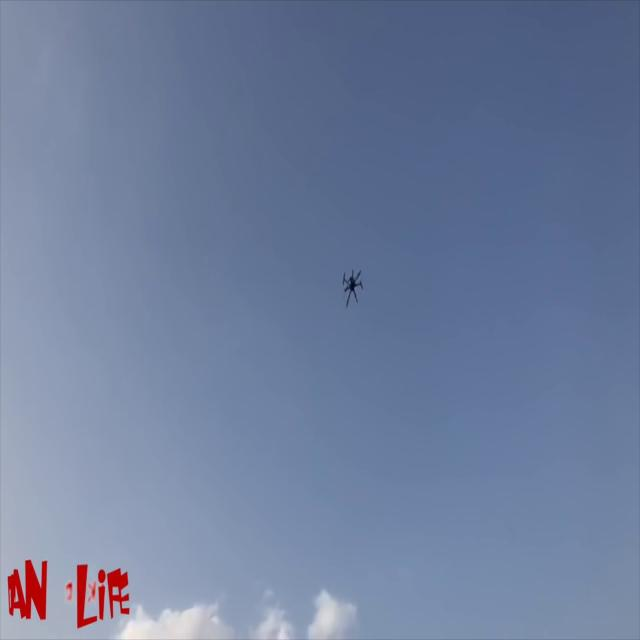drone: (339, 257, 369, 312)
